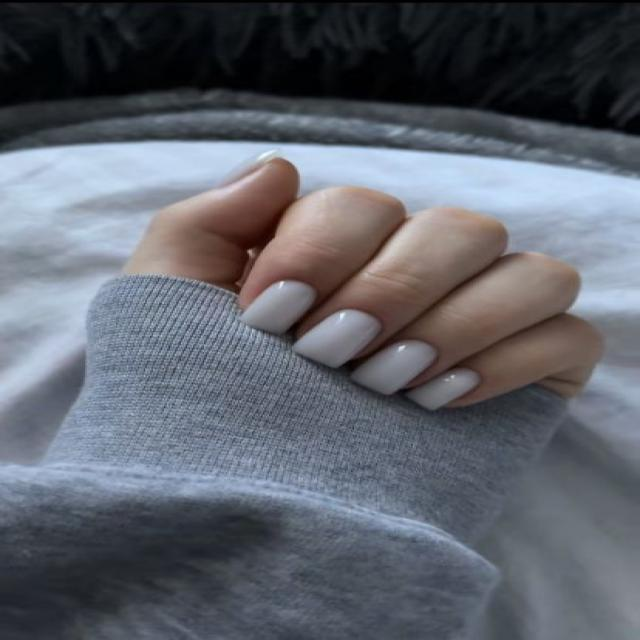Fingernail: (292, 309, 382, 371), (351, 339, 439, 397), (239, 280, 318, 337), (406, 368, 481, 411), (215, 147, 279, 186)
